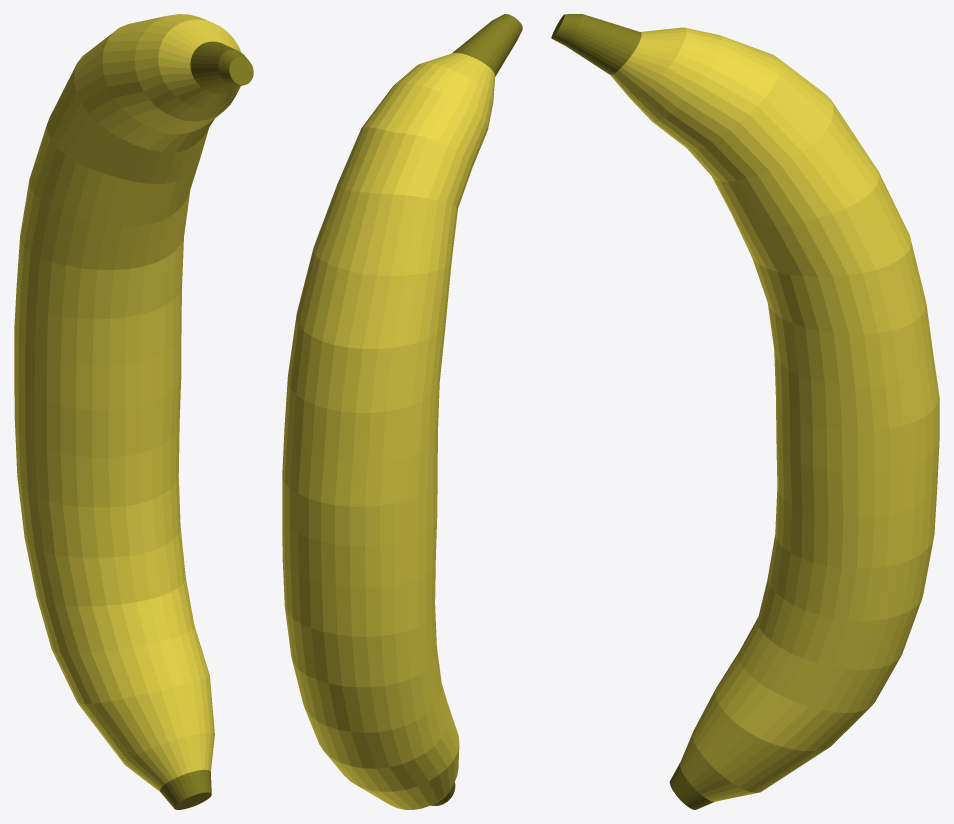
The model's file is random_banana_0.fbx.
3 renders of one model, left to right at view 1: azimuth 30°, elevation 25°; view 2: azimuth 150°, elevation 25°; view 3: azimuth 270°, elevation 25°, orthographic. The views are drawn at different scales.
Parts seen in each view (by area): view 1: Cylinder.044; view 2: Cylinder.044; view 3: Cylinder.044.
Part boxes in pixels (<box>): Cylinder.044: <box>14,14,253,809</box>; Cylinder.044: <box>282,14,522,809</box>; Cylinder.044: <box>551,14,939,809</box>.
Bounding box in the file's own units: 200 × 1060 × 475.
